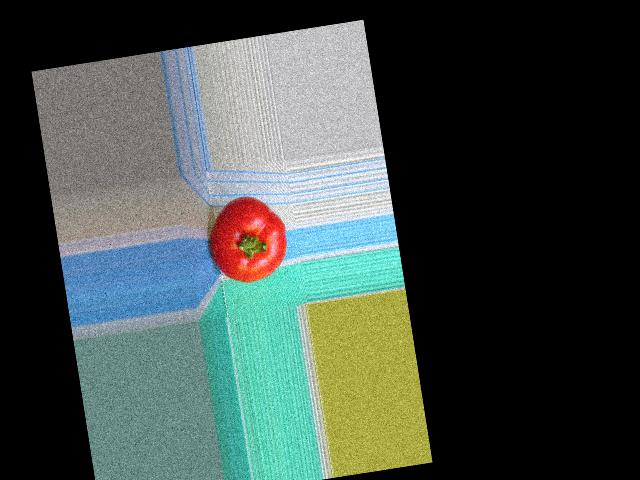tomato: (202, 191, 292, 287)
